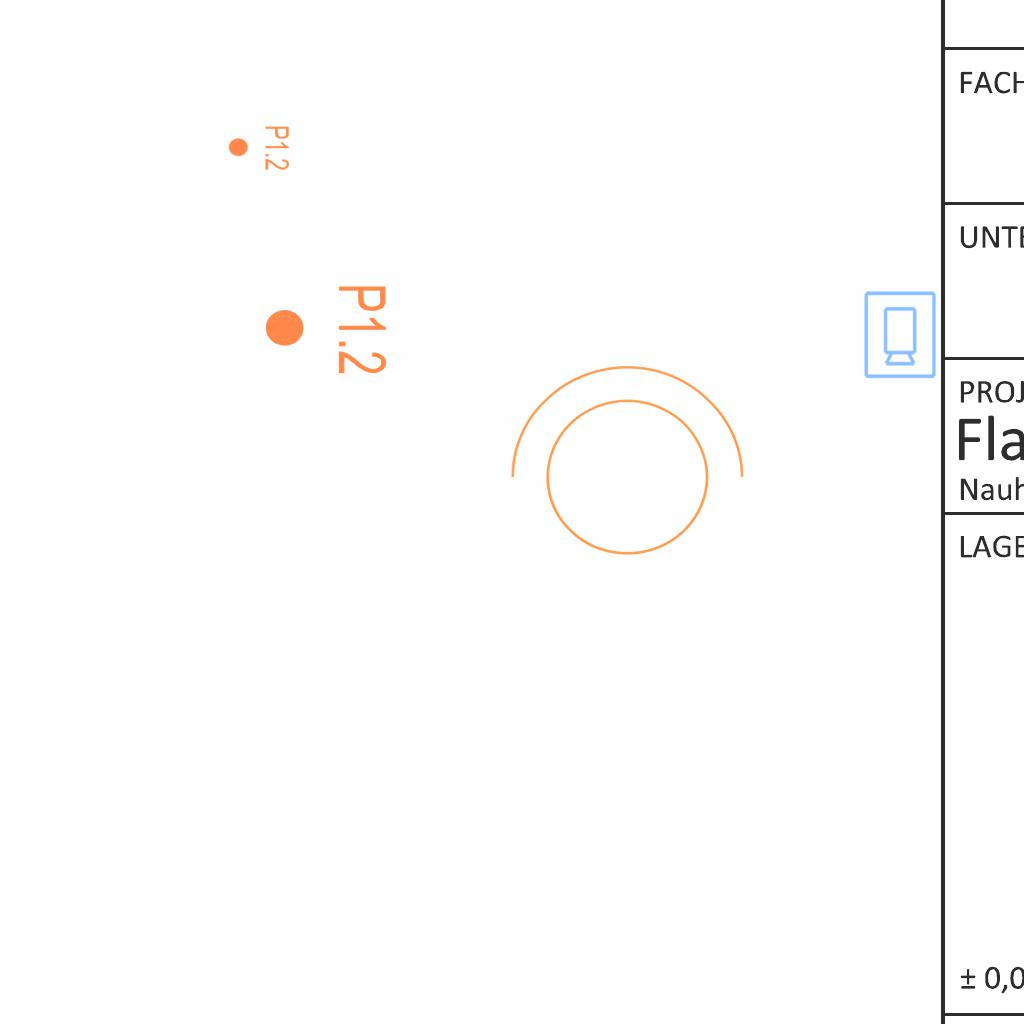Downlight_LED_Einbauleuchten_Flur: (262, 283, 390, 376), (227, 125, 291, 171)
KFO_Kamera_mit_Festobjektiv: (861, 289, 938, 380)
Scheinwerfer_fuer_Alarmbeleuchtung: (489, 355, 753, 580)
